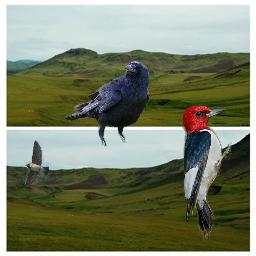Crow: (64, 61, 149, 147)
Swallow: (25, 140, 49, 186)
Woodpecker: (179, 106, 236, 243)
